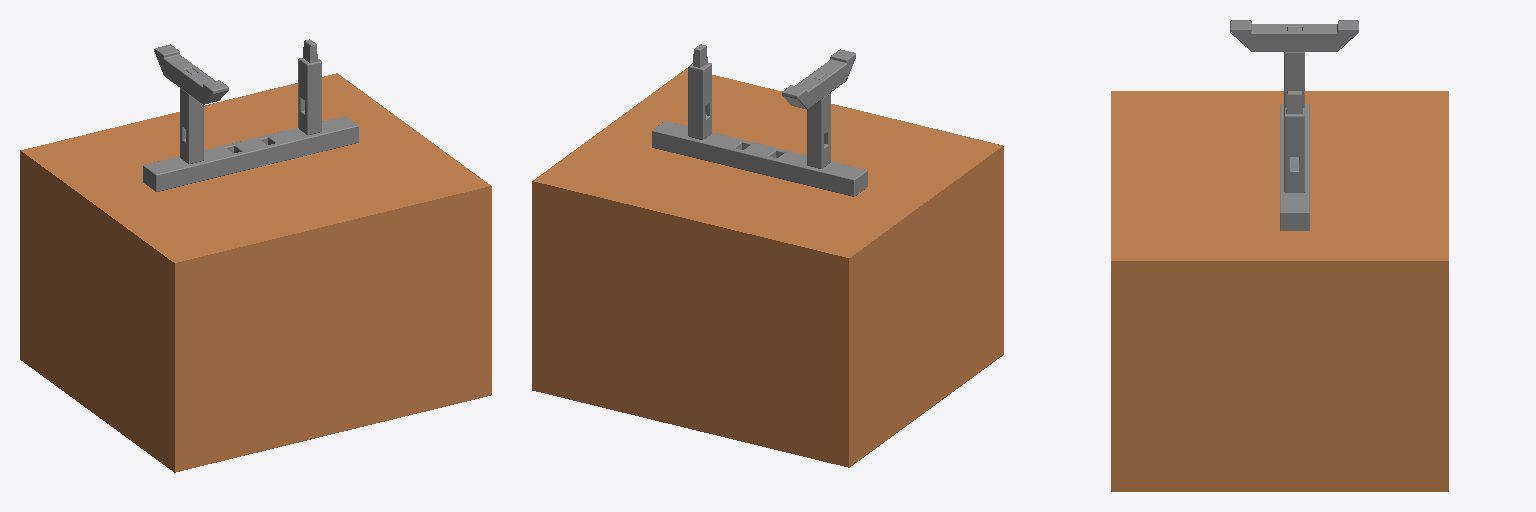
The robot description file, URDF, robot "table_beam_2x_1_scene_0020":
<?xml version="1.0"?>
<robot name="table_beam_2x_1_scene_0020">
  <link name="box">
    <visual>
      <material name="wood"><color rgba="0.82 0.56 0.35 1.0"/></material>
      <origin xyz="0 0 0"/>
      <geometry><box size="0.475 0.4 0.3"/></geometry>
    </visual>
    <collision>
      <origin xyz="0 0 0"/>
      <geometry><box size="0.475 0.4 0.3"/></geometry>
    </collision>
    <inertial>
      <mass value="500"/>
      <friction value="1.0"/>
      <inertia ixx="1000.0" ixy="0.0" ixz="0.0" iyy="1000.0" iyz="0.0" izz="1000.0"/>
    </inertial>
  </link>
  <link name="part_6_canonical">
    <visual>
      <origin xyz="0 0 0" rpy="0 0 0"/>
      <geometry><mesh filename="../../6/6_canonical.obj" scale="1 1 1"/></geometry>
      <material name="placed_0"><color rgba="0.6 0.6 0.6 1.0"/></material>
    </visual>
    <collision>
      <origin xyz="0 0 0" rpy="0 0 0"/>
      <geometry><mesh filename="../../6/6_canonical.obj" scale="1 1 1"/></geometry>
    </collision>
  </link>
  <joint name="part_6_canonical_joint" type="fixed">
    <parent link="box"/>
    <child link="part_6_canonical"/>
    <origin xyz="0.002571 0.017247 0.162666" rpy="0.000000 0.000000 0.000000"/>
  </joint>
  <link name="part_2_canonical">
    <visual>
      <origin xyz="0 0 0" rpy="0 0 0"/>
      <geometry><mesh filename="../../2/2_canonical.obj" scale="1 1 1"/></geometry>
      <material name="placed_1"><color rgba="0.6 0.6 0.6 1.0"/></material>
    </visual>
    <collision>
      <origin xyz="0 0 0" rpy="0 0 0"/>
      <geometry><mesh filename="../../2/2_canonical.obj" scale="1 1 1"/></geometry>
    </collision>
  </link>
  <joint name="part_2_canonical_joint" type="fixed">
    <parent link="box"/>
    <child link="part_2_canonical"/>
    <origin xyz="-0.086356 0.017247 0.225384" rpy="0.000000 -1.570796 0.000000"/>
  </joint>
  <link name="part_0_canonical">
    <visual>
      <origin xyz="0 0 0" rpy="0 0 0"/>
      <geometry><mesh filename="../../0/0_canonical.obj" scale="1 1 1"/></geometry>
      <material name="placed_2"><color rgba="0.6 0.6 0.6 1.0"/></material>
    </visual>
    <collision>
      <origin xyz="0 0 0" rpy="0 0 0"/>
      <geometry><mesh filename="../../0/0_canonical.obj" scale="1 1 1"/></geometry>
    </collision>
  </link>
  <joint name="part_0_canonical_joint" type="fixed">
    <parent link="box"/>
    <child link="part_0_canonical"/>
    <origin xyz="-0.086329 0.017247 0.292243" rpy="1.570796 0.000000 -1.570796"/>
  </joint>
  <link name="part_3_hull_0">
    <visual>
      <origin xyz="0 0 0" rpy="0 0 0"/>
      <geometry><mesh filename="../../3/coacd/decomp_0.obj" scale="1 1 1"/></geometry>
      <material name="placed_3"><color rgba="0.6 0.6 0.6 1.0"/></material>
    </visual>
    <collision>
      <origin xyz="0 0 0" rpy="0 0 0"/>
      <geometry><mesh filename="../../3/coacd/decomp_0.obj" scale="1 1 1"/></geometry>
    </collision>
  </link>
  <joint name="part_3_hull_0_joint" type="fixed">
    <parent link="box"/>
    <child link="part_3_hull_0"/>
    <origin xyz="0.091498 0.017247 0.225384" rpy="0.000000 -1.570796 0.000000"/>
  </joint>
  <link name="part_3_hull_1">
    <visual>
      <origin xyz="0 0 0" rpy="0 0 0"/>
      <geometry><mesh filename="../../3/coacd/decomp_1.obj" scale="1 1 1"/></geometry>
      <material name="placed_4"><color rgba="0.6 0.6 0.6 1.0"/></material>
    </visual>
    <collision>
      <origin xyz="0 0 0" rpy="0 0 0"/>
      <geometry><mesh filename="../../3/coacd/decomp_1.obj" scale="1 1 1"/></geometry>
    </collision>
  </link>
  <joint name="part_3_hull_1_joint" type="fixed">
    <parent link="box"/>
    <child link="part_3_hull_1"/>
    <origin xyz="0.091498 0.017247 0.225384" rpy="0.000000 -1.570796 0.000000"/>
  </joint>
  <link name="part_3_hull_2">
    <visual>
      <origin xyz="0 0 0" rpy="0 0 0"/>
      <geometry><mesh filename="../../3/coacd/decomp_10.obj" scale="1 1 1"/></geometry>
      <material name="placed_5"><color rgba="0.6 0.6 0.6 1.0"/></material>
    </visual>
    <collision>
      <origin xyz="0 0 0" rpy="0 0 0"/>
      <geometry><mesh filename="../../3/coacd/decomp_10.obj" scale="1 1 1"/></geometry>
    </collision>
  </link>
  <joint name="part_3_hull_2_joint" type="fixed">
    <parent link="box"/>
    <child link="part_3_hull_2"/>
    <origin xyz="0.091498 0.017247 0.225384" rpy="0.000000 -1.570796 0.000000"/>
  </joint>
  <link name="part_3_hull_3">
    <visual>
      <origin xyz="0 0 0" rpy="0 0 0"/>
      <geometry><mesh filename="../../3/coacd/decomp_11.obj" scale="1 1 1"/></geometry>
      <material name="placed_6"><color rgba="0.6 0.6 0.6 1.0"/></material>
    </visual>
    <collision>
      <origin xyz="0 0 0" rpy="0 0 0"/>
      <geometry><mesh filename="../../3/coacd/decomp_11.obj" scale="1 1 1"/></geometry>
    </collision>
  </link>
  <joint name="part_3_hull_3_joint" type="fixed">
    <parent link="box"/>
    <child link="part_3_hull_3"/>
    <origin xyz="0.091498 0.017247 0.225384" rpy="0.000000 -1.570796 0.000000"/>
  </joint>
  <link name="part_3_hull_4">
    <visual>
      <origin xyz="0 0 0" rpy="0 0 0"/>
      <geometry><mesh filename="../../3/coacd/decomp_12.obj" scale="1 1 1"/></geometry>
      <material name="placed_7"><color rgba="0.6 0.6 0.6 1.0"/></material>
    </visual>
    <collision>
      <origin xyz="0 0 0" rpy="0 0 0"/>
      <geometry><mesh filename="../../3/coacd/decomp_12.obj" scale="1 1 1"/></geometry>
    </collision>
  </link>
  <joint name="part_3_hull_4_joint" type="fixed">
    <parent link="box"/>
    <child link="part_3_hull_4"/>
    <origin xyz="0.091498 0.017247 0.225384" rpy="0.000000 -1.570796 0.000000"/>
  </joint>
  <link name="part_3_hull_5">
    <visual>
      <origin xyz="0 0 0" rpy="0 0 0"/>
      <geometry><mesh filename="../../3/coacd/decomp_2.obj" scale="1 1 1"/></geometry>
      <material name="placed_8"><color rgba="0.6 0.6 0.6 1.0"/></material>
    </visual>
    <collision>
      <origin xyz="0 0 0" rpy="0 0 0"/>
      <geometry><mesh filename="../../3/coacd/decomp_2.obj" scale="1 1 1"/></geometry>
    </collision>
  </link>
  <joint name="part_3_hull_5_joint" type="fixed">
    <parent link="box"/>
    <child link="part_3_hull_5"/>
    <origin xyz="0.091498 0.017247 0.225384" rpy="0.000000 -1.570796 0.000000"/>
  </joint>
  <link name="part_3_hull_6">
    <visual>
      <origin xyz="0 0 0" rpy="0 0 0"/>
      <geometry><mesh filename="../../3/coacd/decomp_3.obj" scale="1 1 1"/></geometry>
      <material name="placed_9"><color rgba="0.6 0.6 0.6 1.0"/></material>
    </visual>
    <collision>
      <origin xyz="0 0 0" rpy="0 0 0"/>
      <geometry><mesh filename="../../3/coacd/decomp_3.obj" scale="1 1 1"/></geometry>
    </collision>
  </link>
  <joint name="part_3_hull_6_joint" type="fixed">
    <parent link="box"/>
    <child link="part_3_hull_6"/>
    <origin xyz="0.091498 0.017247 0.225384" rpy="0.000000 -1.570796 0.000000"/>
  </joint>
  <link name="part_3_hull_7">
    <visual>
      <origin xyz="0 0 0" rpy="0 0 0"/>
      <geometry><mesh filename="../../3/coacd/decomp_4.obj" scale="1 1 1"/></geometry>
      <material name="placed_10"><color rgba="0.6 0.6 0.6 1.0"/></material>
    </visual>
    <collision>
      <origin xyz="0 0 0" rpy="0 0 0"/>
      <geometry><mesh filename="../../3/coacd/decomp_4.obj" scale="1 1 1"/></geometry>
    </collision>
  </link>
  <joint name="part_3_hull_7_joint" type="fixed">
    <parent link="box"/>
    <child link="part_3_hull_7"/>
    <origin xyz="0.091498 0.017247 0.225384" rpy="0.000000 -1.570796 0.000000"/>
  </joint>
  <link name="part_3_hull_8">
    <visual>
      <origin xyz="0 0 0" rpy="0 0 0"/>
      <geometry><mesh filename="../../3/coacd/decomp_5.obj" scale="1 1 1"/></geometry>
      <material name="placed_11"><color rgba="0.6 0.6 0.6 1.0"/></material>
    </visual>
    <collision>
      <origin xyz="0 0 0" rpy="0 0 0"/>
      <geometry><mesh filename="../../3/coacd/decomp_5.obj" scale="1 1 1"/></geometry>
    </collision>
  </link>
  <joint name="part_3_hull_8_joint" type="fixed">
    <parent link="box"/>
    <child link="part_3_hull_8"/>
    <origin xyz="0.091498 0.017247 0.225384" rpy="0.000000 -1.570796 0.000000"/>
  </joint>
  <link name="part_3_hull_9">
    <visual>
      <origin xyz="0 0 0" rpy="0 0 0"/>
      <geometry><mesh filename="../../3/coacd/decomp_6.obj" scale="1 1 1"/></geometry>
      <material name="placed_12"><color rgba="0.6 0.6 0.6 1.0"/></material>
    </visual>
    <collision>
      <origin xyz="0 0 0" rpy="0 0 0"/>
      <geometry><mesh filename="../../3/coacd/decomp_6.obj" scale="1 1 1"/></geometry>
    </collision>
  </link>
  <joint name="part_3_hull_9_joint" type="fixed">
    <parent link="box"/>
    <child link="part_3_hull_9"/>
    <origin xyz="0.091498 0.017247 0.225384" rpy="0.000000 -1.570796 0.000000"/>
  </joint>
  <link name="part_3_hull_10">
    <visual>
      <origin xyz="0 0 0" rpy="0 0 0"/>
      <geometry><mesh filename="../../3/coacd/decomp_7.obj" scale="1 1 1"/></geometry>
      <material name="placed_13"><color rgba="0.6 0.6 0.6 1.0"/></material>
    </visual>
    <collision>
      <origin xyz="0 0 0" rpy="0 0 0"/>
      <geometry><mesh filename="../../3/coacd/decomp_7.obj" scale="1 1 1"/></geometry>
    </collision>
  </link>
  <joint name="part_3_hull_10_joint" type="fixed">
    <parent link="box"/>
    <child link="part_3_hull_10"/>
    <origin xyz="0.091498 0.017247 0.225384" rpy="0.000000 -1.570796 0.000000"/>
  </joint>
  <link name="part_3_hull_11">
    <visual>
      <origin xyz="0 0 0" rpy="0 0 0"/>
      <geometry><mesh filename="../../3/coacd/decomp_8.obj" scale="1 1 1"/></geometry>
      <material name="placed_14"><color rgba="0.6 0.6 0.6 1.0"/></material>
    </visual>
    <collision>
      <origin xyz="0 0 0" rpy="0 0 0"/>
      <geometry><mesh filename="../../3/coacd/decomp_8.obj" scale="1 1 1"/></geometry>
    </collision>
  </link>
  <joint name="part_3_hull_11_joint" type="fixed">
    <parent link="box"/>
    <child link="part_3_hull_11"/>
    <origin xyz="0.091498 0.017247 0.225384" rpy="0.000000 -1.570796 0.000000"/>
  </joint>
  <link name="part_3_hull_12">
    <visual>
      <origin xyz="0 0 0" rpy="0 0 0"/>
      <geometry><mesh filename="../../3/coacd/decomp_9.obj" scale="1 1 1"/></geometry>
      <material name="placed_15"><color rgba="0.6 0.6 0.6 1.0"/></material>
    </visual>
    <collision>
      <origin xyz="0 0 0" rpy="0 0 0"/>
      <geometry><mesh filename="../../3/coacd/decomp_9.obj" scale="1 1 1"/></geometry>
    </collision>
  </link>
  <joint name="part_3_hull_12_joint" type="fixed">
    <parent link="box"/>
    <child link="part_3_hull_12"/>
    <origin xyz="0.091498 0.017247 0.225384" rpy="0.000000 -1.570796 0.000000"/>
  </joint>
</robot>

--- What the picture shows (computed from the rendered views, not written in the file) ---
Views: 3 orthographic renders of the robot side by side, from view 1: azimuth 30°, elevation 25°; view 2: azimuth 150°, elevation 25°; view 3: azimuth 270°, elevation 25°.
Model table_beam_2x_1_scene_0020 with 17 links and 16 joints (16 fixed), rooted at box, posed all joints at 0.
Links seen in each view (by area): view 1: box, part_6_canonical, part_0_canonical, part_2_canonical, part_3_hull_7; view 2: box, part_6_canonical, part_0_canonical, part_2_canonical, part_3_hull_11; view 3: box, part_0_canonical, part_6_canonical, part_2_canonical, part_3_hull_0.
Link boxes in pixels (bbox=[...]): box: bbox=[20, 73, 491, 472]; part_6_canonical: bbox=[143, 116, 358, 191]; part_0_canonical: bbox=[154, 44, 228, 104]; part_2_canonical: bbox=[180, 68, 203, 163]; part_3_hull_7: bbox=[310, 62, 318, 134]; box: bbox=[532, 68, 1003, 467]; part_6_canonical: bbox=[652, 121, 867, 196]; part_0_canonical: bbox=[782, 49, 855, 109]; part_2_canonical: bbox=[807, 73, 830, 168]; part_3_hull_11: bbox=[692, 66, 699, 138]; box: bbox=[1111, 91, 1448, 491]; part_0_canonical: bbox=[1230, 20, 1358, 51]; part_6_canonical: bbox=[1280, 104, 1309, 230]; part_2_canonical: bbox=[1284, 27, 1304, 108]; part_3_hull_0: bbox=[1284, 114, 1304, 156].
Size in the robot's own frame: 0.475 by 0.4 by 0.4575 metres.
16 mesh visuals loaded from 16 distinct referenced files (16 OBJ).
